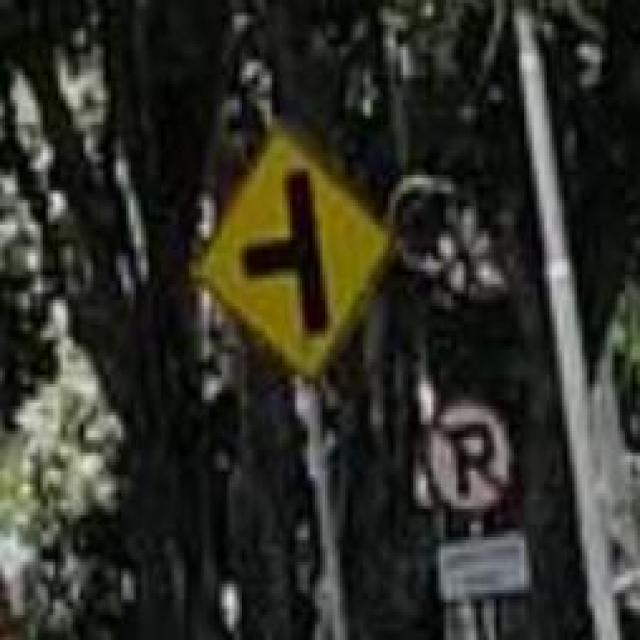traffic sign: (204, 141, 388, 362)
